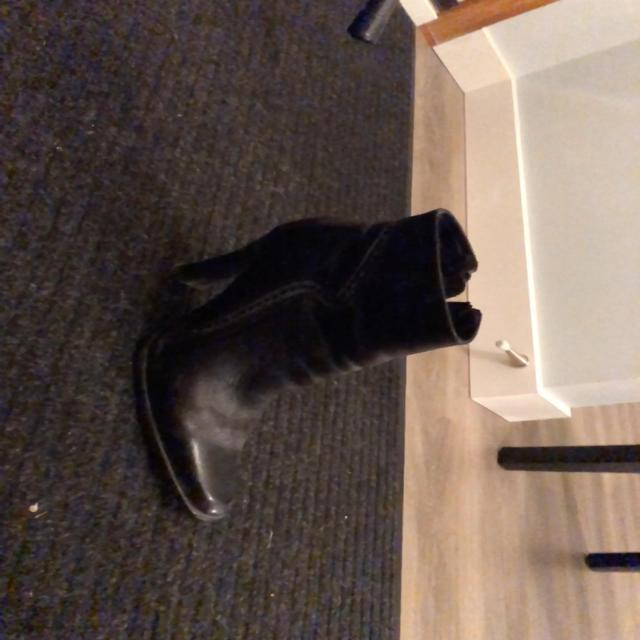shoe: (134, 210, 483, 523)
